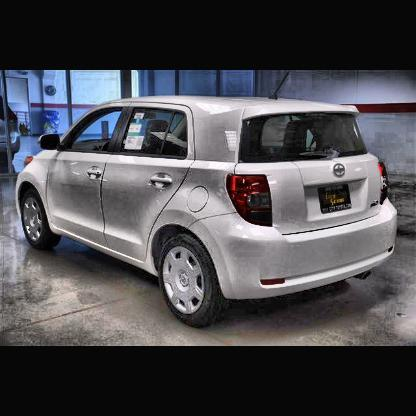Scion xD Hatchback 2012: (14, 95, 400, 326)
